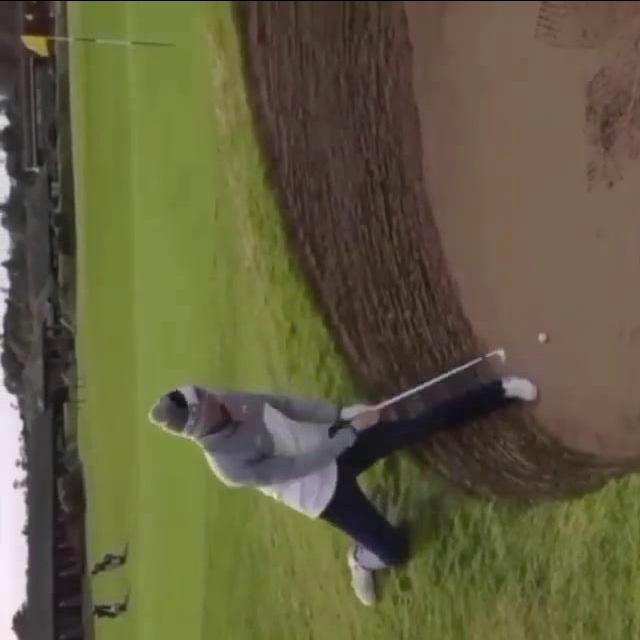golf ball: (536, 331, 549, 344)
golf club-handle: (371, 346, 508, 413)
golf club-head: (497, 347, 507, 364)
